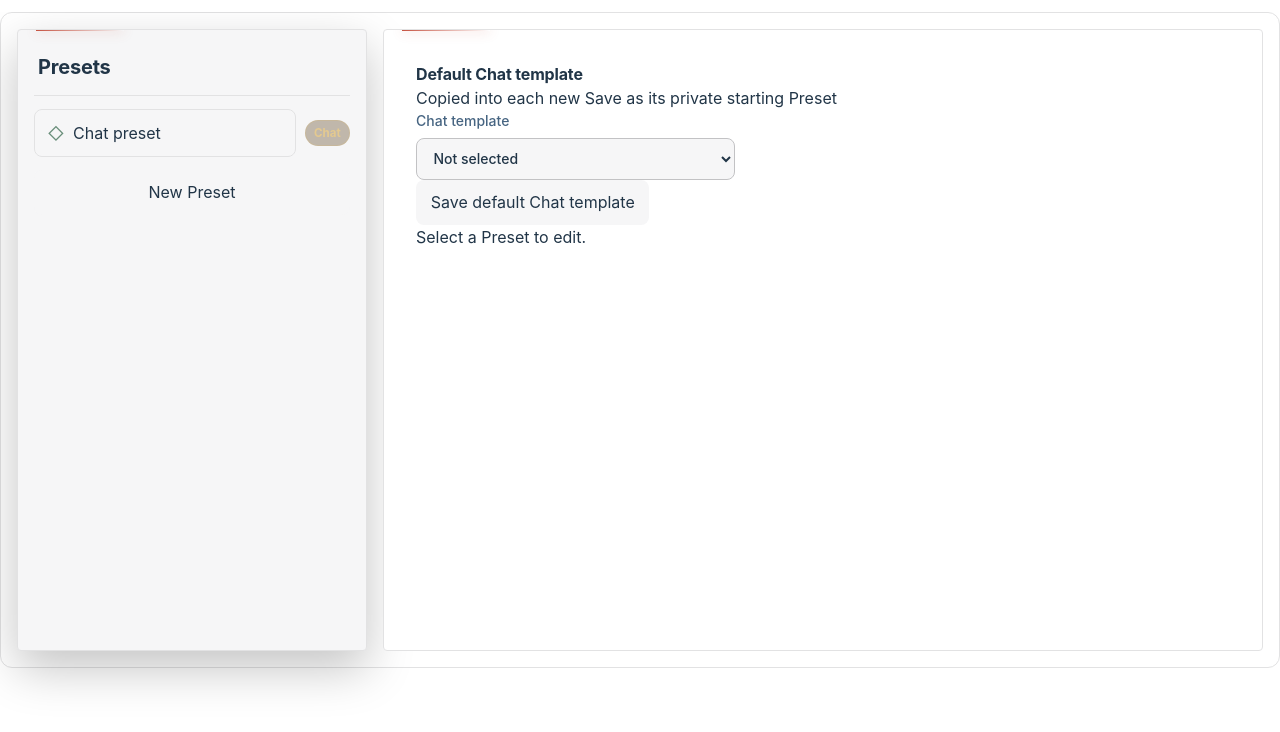
PresetManagerPage › renders independently expandable Prompt, order-group, and advanced-settings cards
Click the button with aria-label "Edit preset Chat preset" at (117, 133), box [34,109,296,157]
(page scrolled)
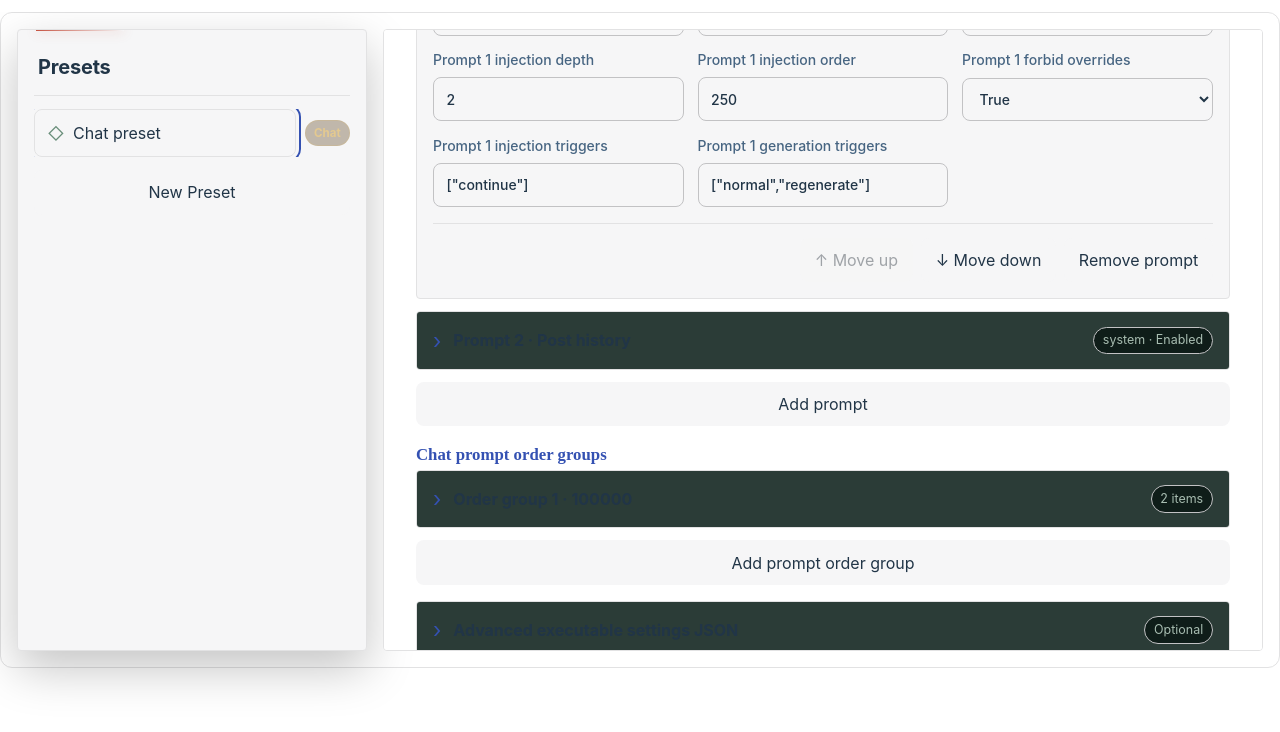
Now the number of elements with test id "prompt-card" is 2
Click the heading "Prompt 2 · Post history system · Enabled" at (482, 340), box [417,312,1229,369]
(page scrolled)
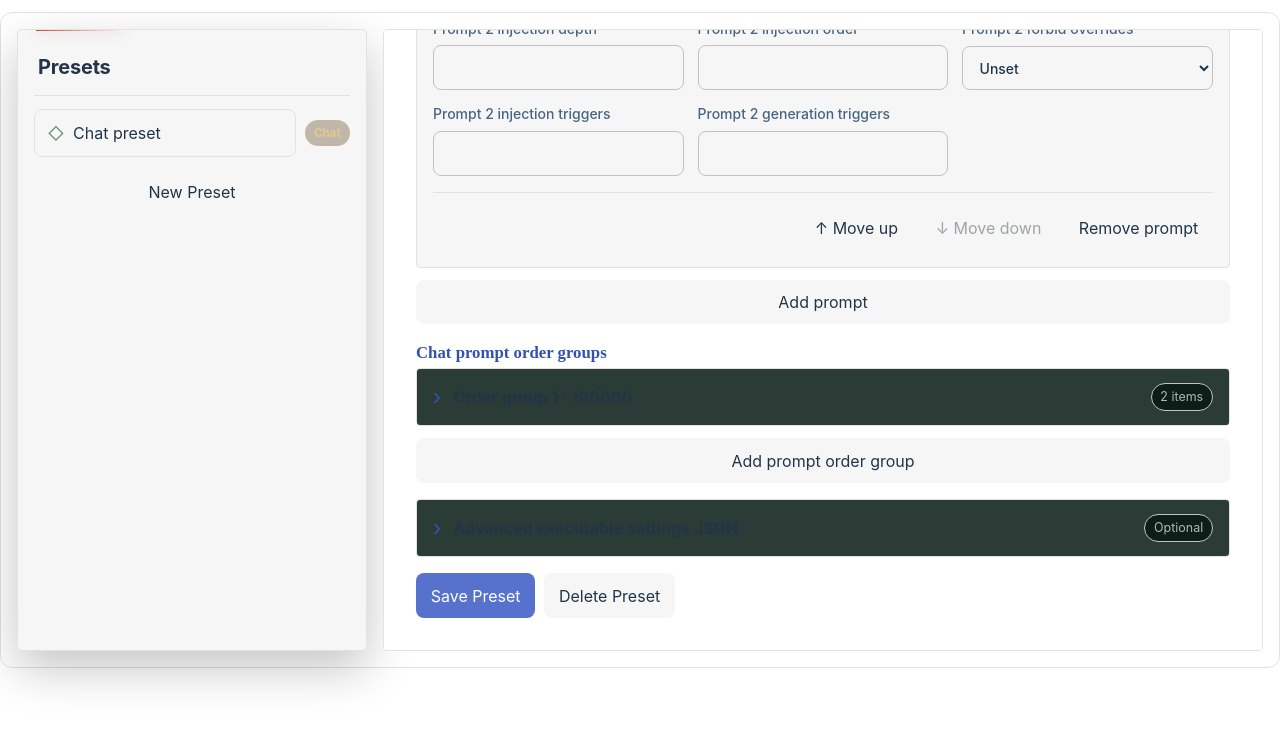
Click the heading "Order group 1 · 100000 2 items" at (501, 397), box [417,369,1229,425]
(page scrolled)
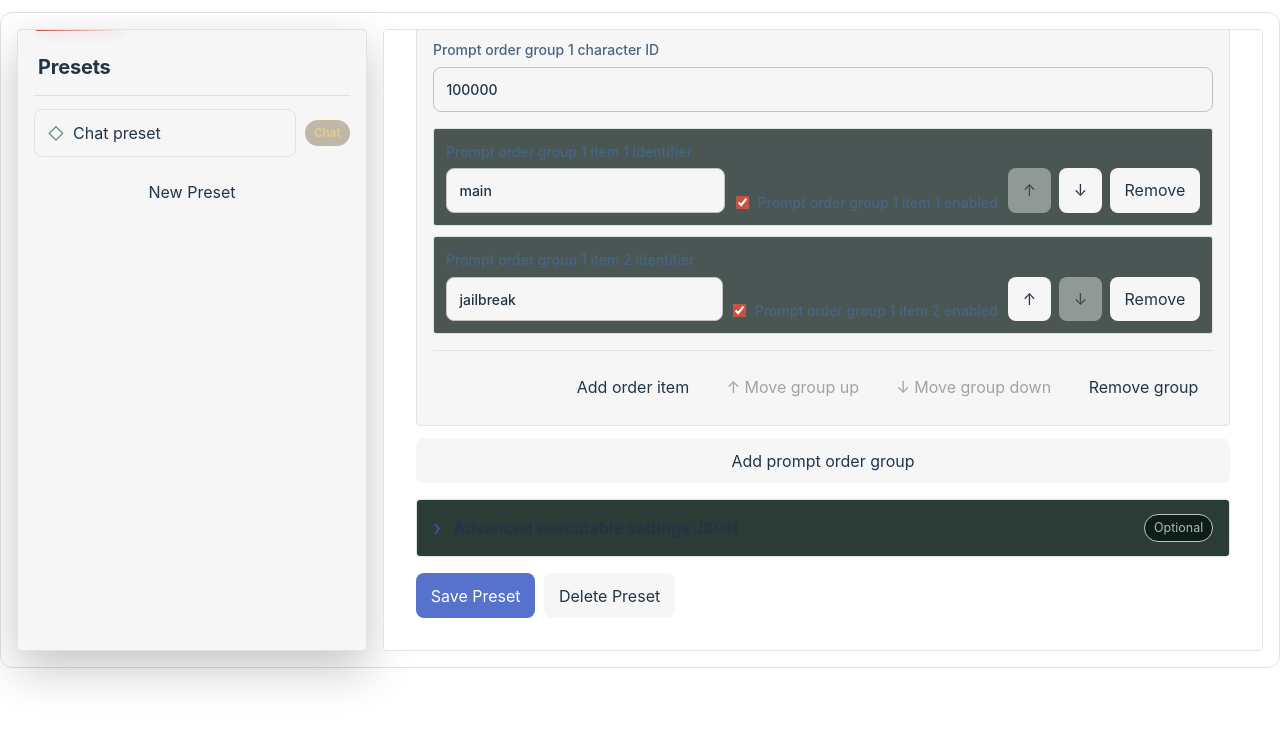
Now the element with test id "prompt-order-card" has attribute open, box [416,29,1230,426]
Click the heading "Advanced executable settings JSON Optional" at (596, 528), box [417,500,1229,556]
(page scrolled)
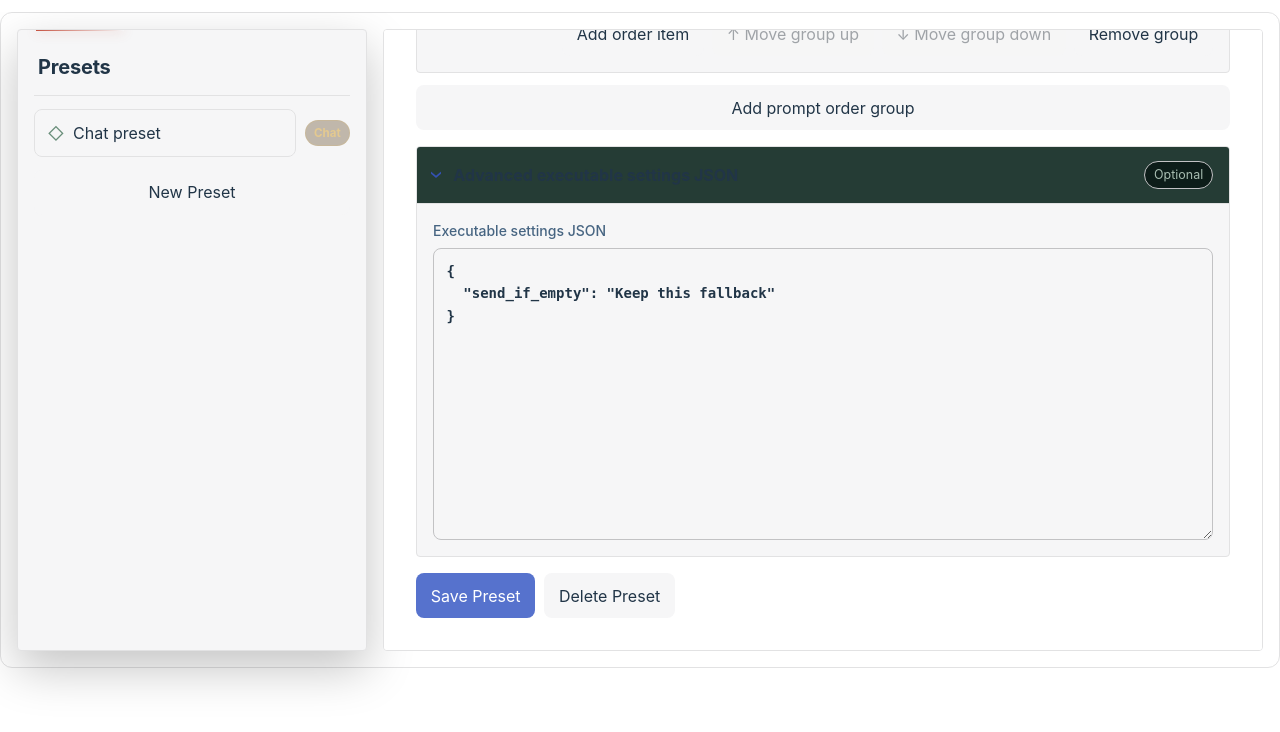
Now the text box labelled "Executable settings JSON" is shown, box [433,248,1213,540]
